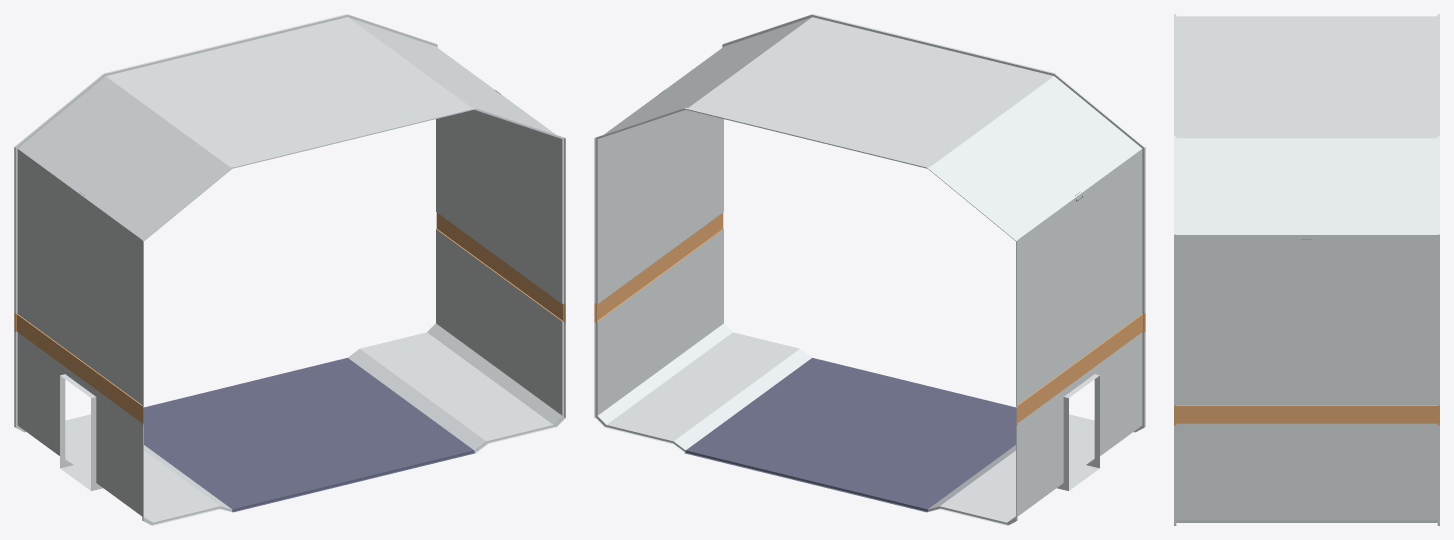
Rendered from HangarDoor1.fbx.
3 views of the same model, side by side, from view 1: azimuth 30°, elevation 25°; view 2: azimuth 150°, elevation 25°; view 3: azimuth 270°, elevation 25° (orthographic). The views are drawn at different scales.
Parts seen in each view (by area): view 1: HangarDeur1; view 2: HangarDeur1; view 3: HangarDeur1.
Part boxes in pixels (box(x1,y1,x2,y2)): HangarDeur1: box(14, 14, 565, 525); HangarDeur1: box(594, 14, 1145, 525); HangarDeur1: box(1174, 14, 1439, 525).
Size of the model in its own units: 8.68 by 6.72 by 4.56.
